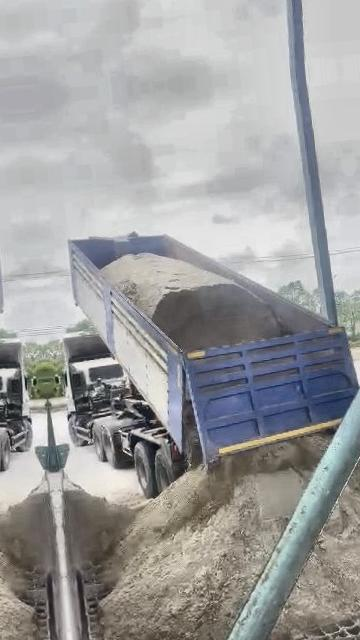sand: (101, 438, 326, 640), (271, 428, 360, 640), (102, 253, 291, 350), (65, 488, 150, 568)
